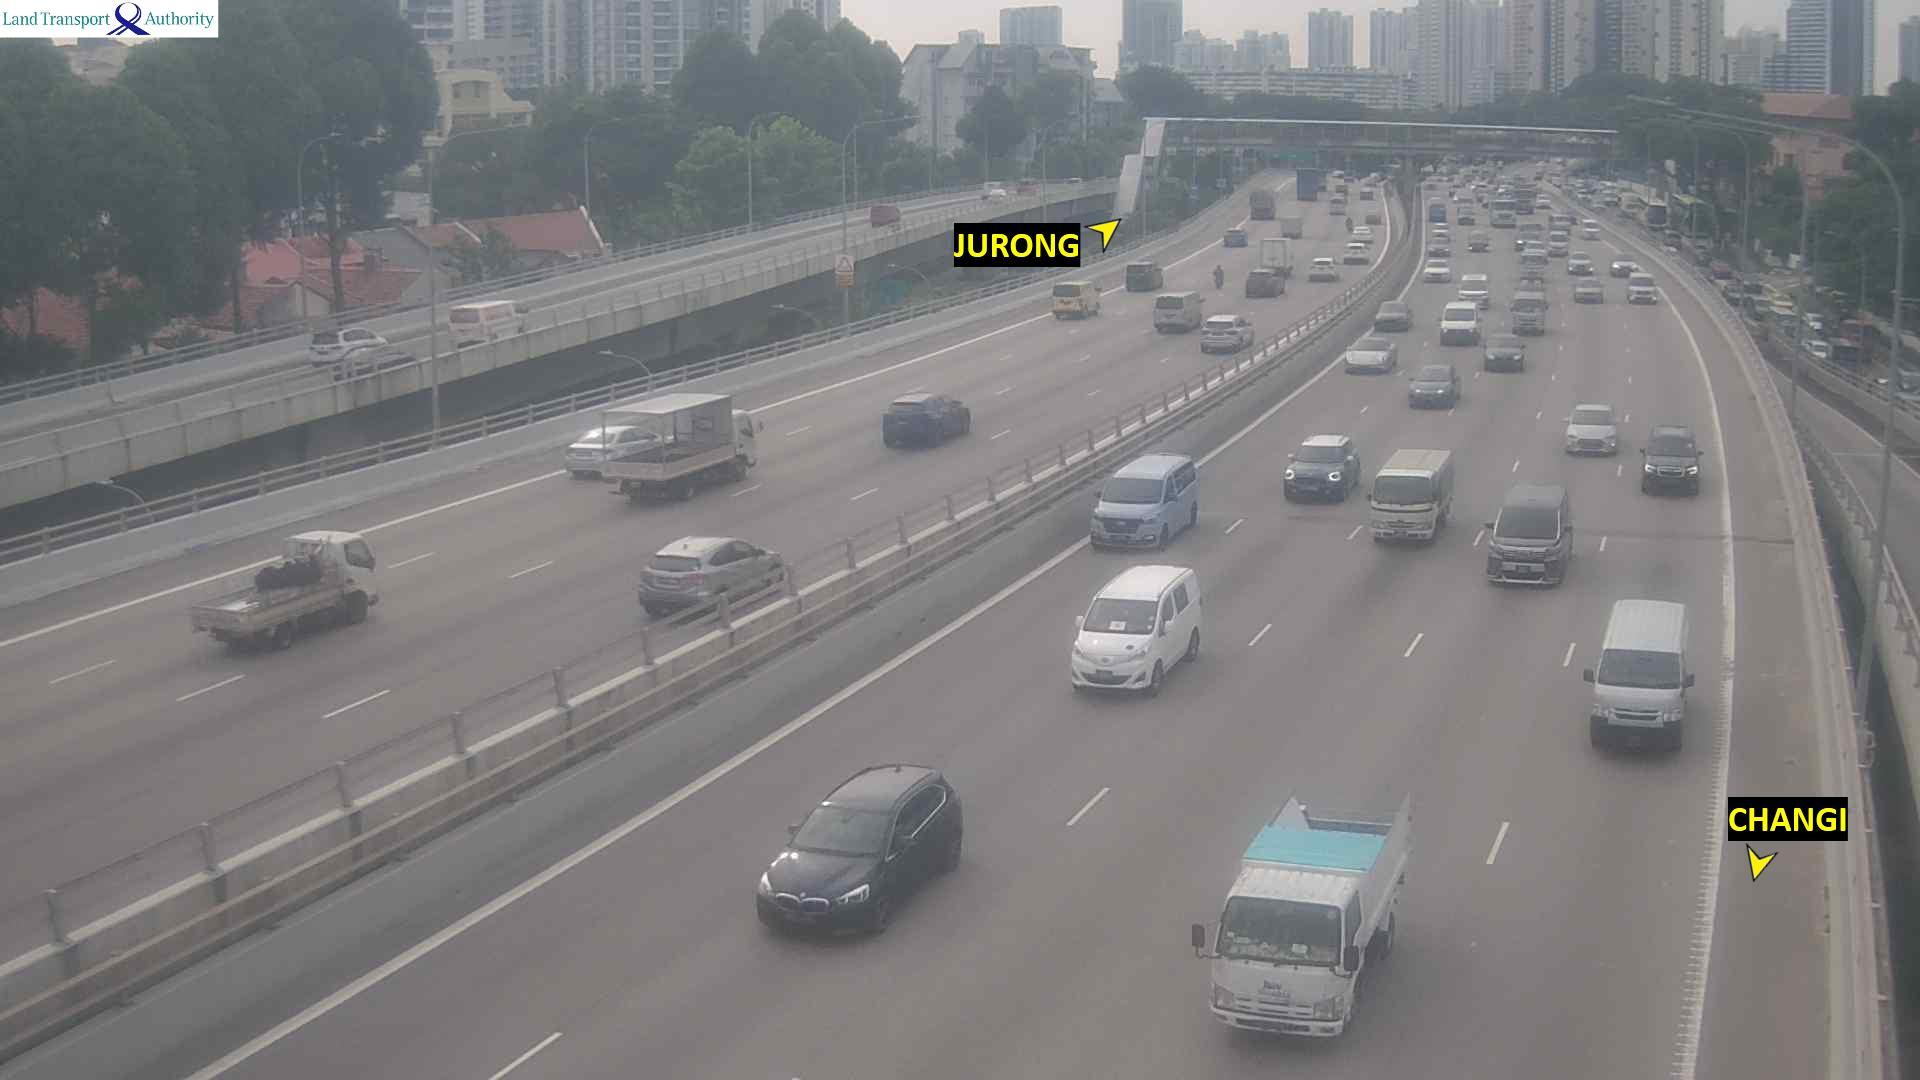incoming: (1187, 893, 1369, 1046), (750, 791, 920, 951), (1582, 641, 1702, 765), (1067, 585, 1184, 702), (1085, 468, 1183, 558), (1485, 504, 1576, 589), (1364, 472, 1444, 550), (1282, 442, 1354, 508), (1638, 433, 1705, 500), (1560, 406, 1623, 458), (1406, 365, 1461, 413), (1341, 336, 1393, 377), (1480, 332, 1527, 375), (1436, 307, 1484, 348), (1509, 297, 1551, 338), (1373, 302, 1412, 334), (1455, 278, 1491, 311), (1626, 276, 1659, 306), (1572, 278, 1607, 306), (1489, 198, 1519, 228), (1607, 253, 1640, 280), (1511, 187, 1538, 215), (1519, 240, 1549, 264), (1567, 252, 1596, 276), (1423, 260, 1453, 282), (1545, 232, 1572, 257), (1464, 232, 1494, 253), (1427, 237, 1453, 257), (1551, 214, 1573, 236), (1580, 220, 1604, 241), (1457, 206, 1477, 227), (1534, 194, 1553, 208)
